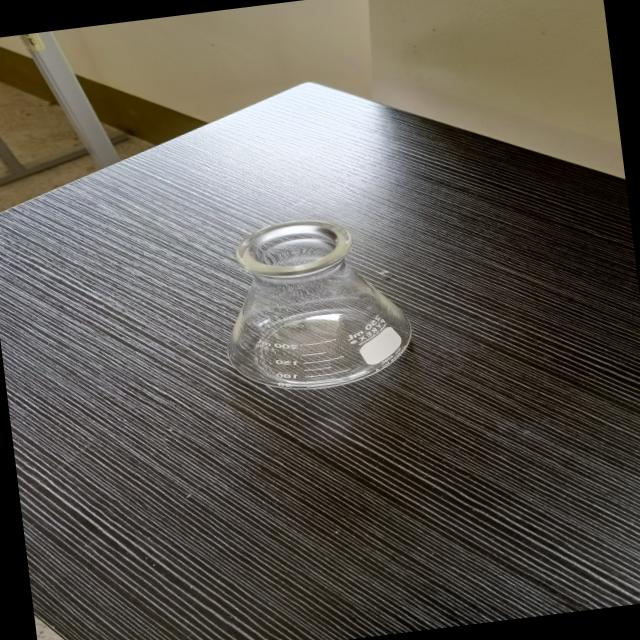erlenmeyer_flask: (176, 204, 432, 406)
